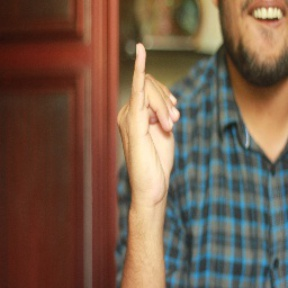I: (115, 42, 185, 202)
